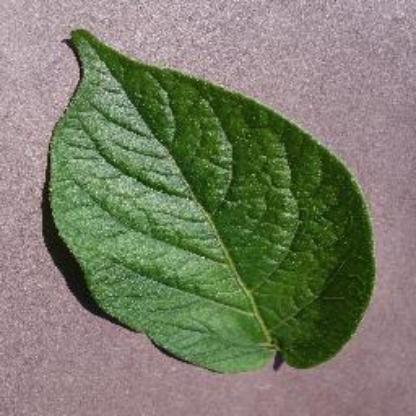Healthy-plant: (40, 15, 380, 375)
